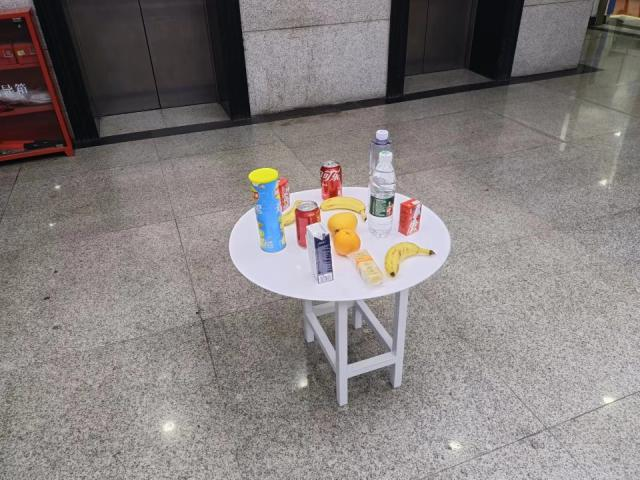Canned_drinks: (294, 200, 322, 250), (319, 159, 344, 200)
bottle: (369, 151, 396, 239), (369, 129, 392, 192)
cylinder: (248, 167, 287, 253)
drink_box: (305, 222, 335, 284), (399, 199, 421, 236), (276, 176, 291, 211)
